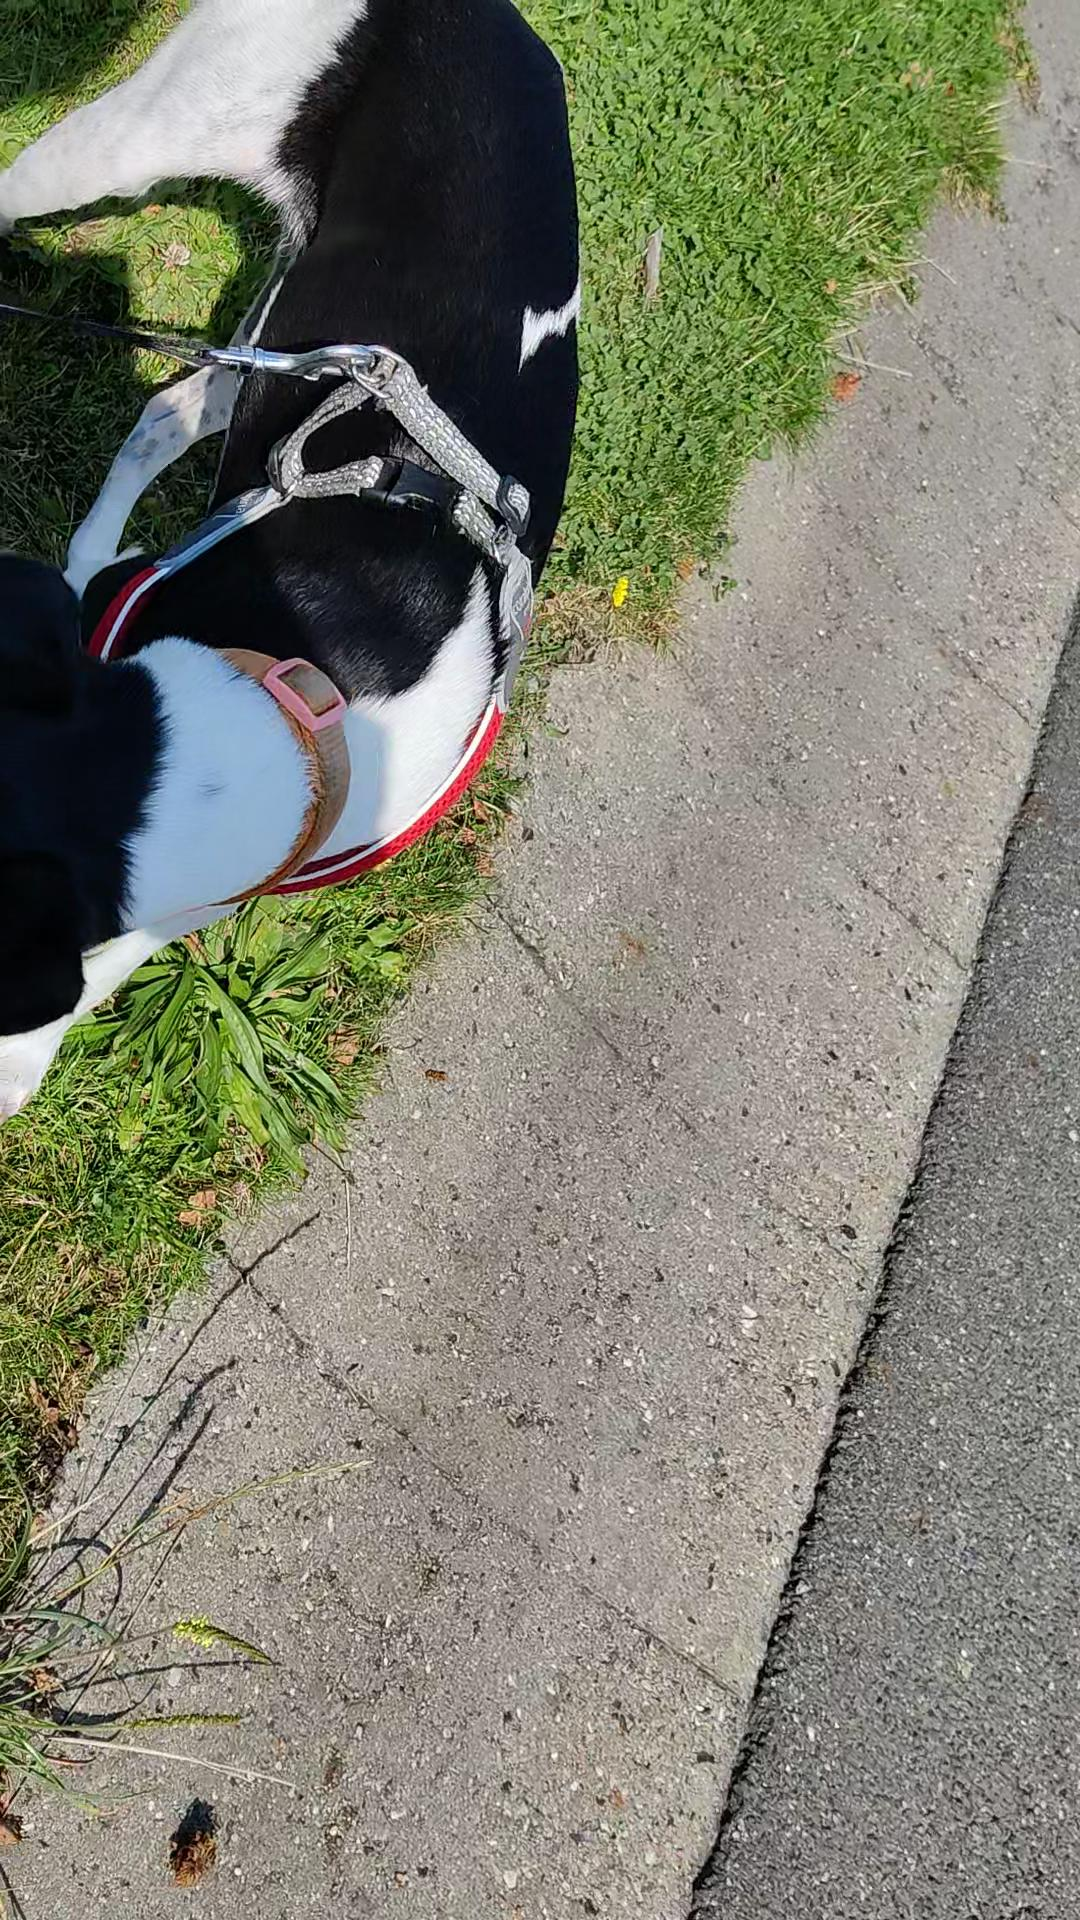Dog: (0, 0, 603, 1131)
